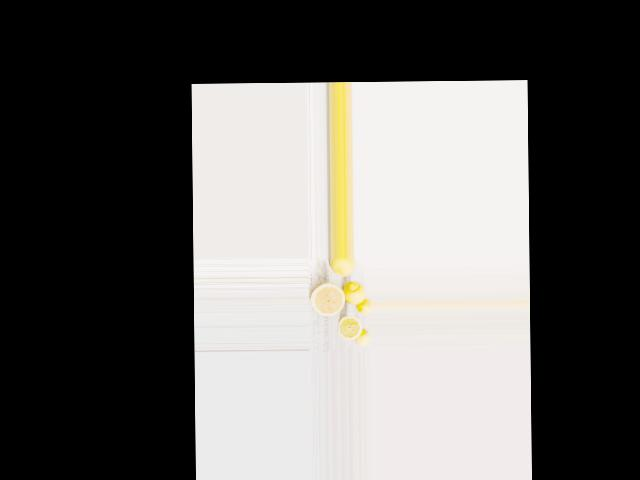lemon: (327, 257, 355, 278)
